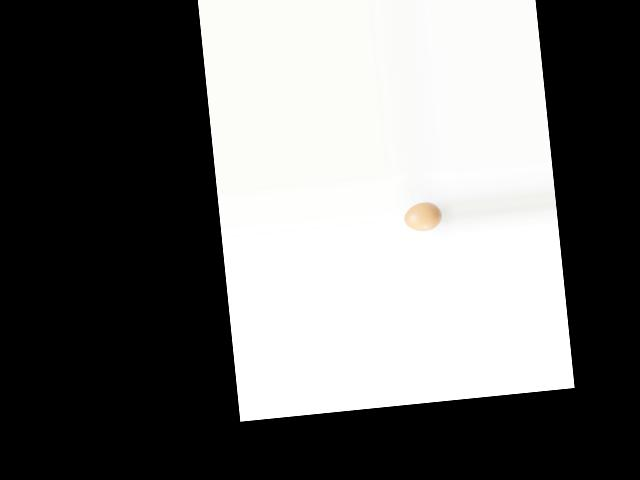egg: (402, 200, 443, 232)
